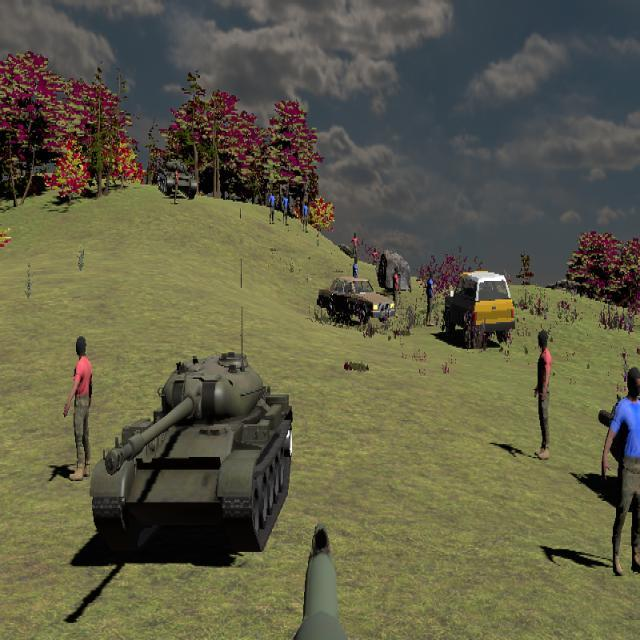Human: (600, 366, 640, 577), (63, 336, 93, 480), (534, 330, 553, 460)
Tank: (89, 351, 292, 555), (157, 158, 199, 199)
car: (443, 271, 515, 344), (316, 277, 395, 324)
